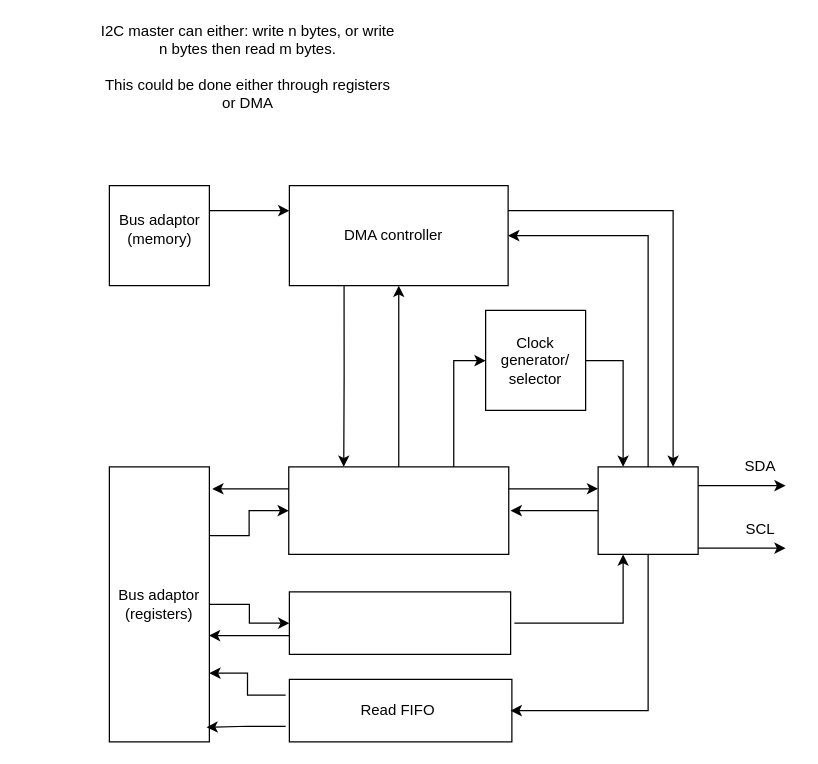
This 818x764 diagram has some shape labels left out. The centre of each missing label's shape, as x and y in pixels:
Control registers + logic: point 398,510
Write FIFO: point 399,622
